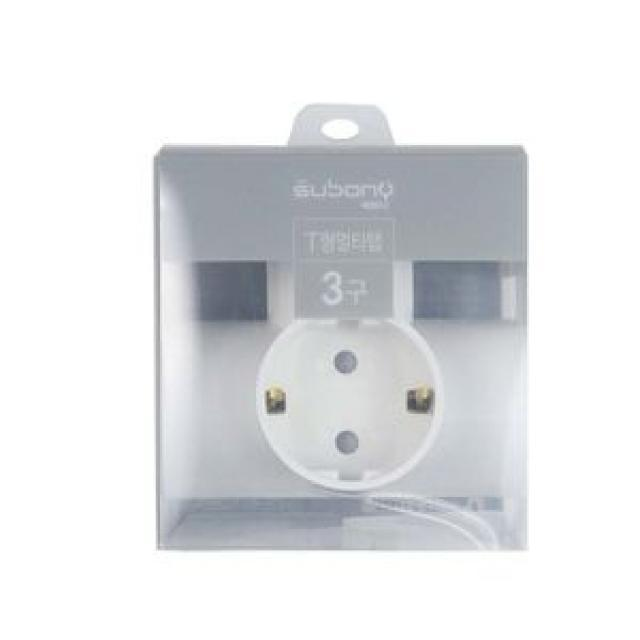typeb: (141, 102, 540, 567)
